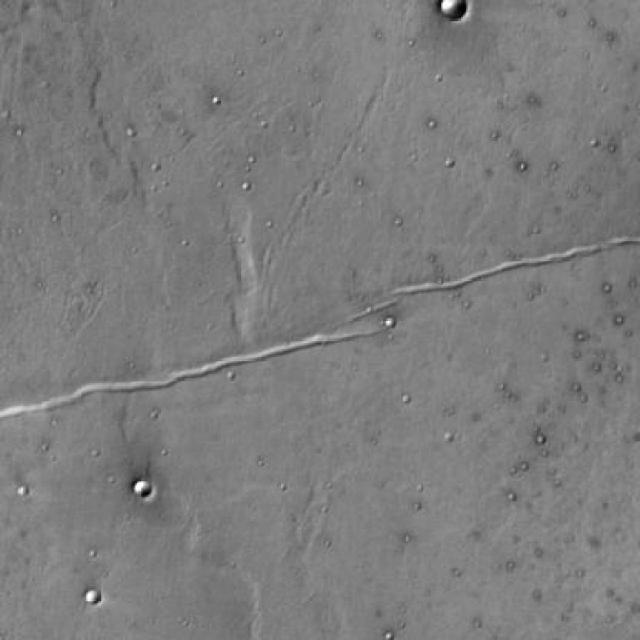crater: (118, 473, 139, 493)
